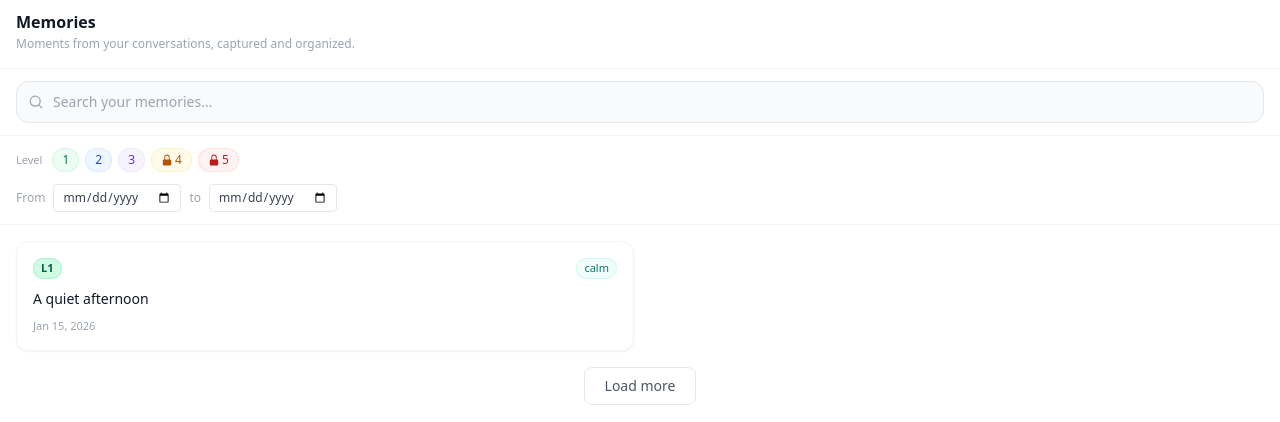
Scenario: MemoriesScreen — load more › appends the next page when "Load more" is clicked
Expected: the text "A quiet afternoon" is shown, [33,288,149,308]
Click the button "Load more" at (640, 386), box [584,367,696,405]
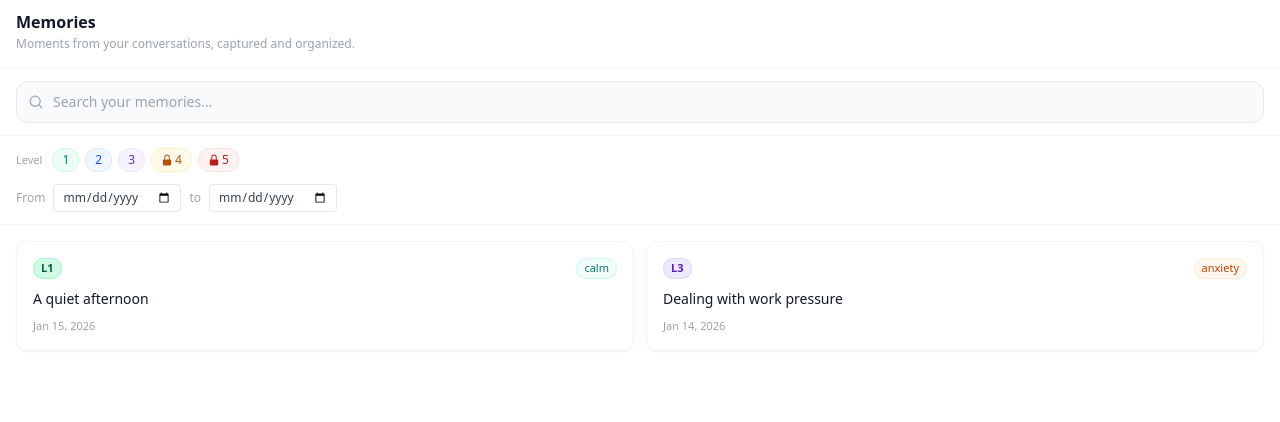
Expected: the text "A quiet afternoon" is shown, [33,288,149,308]
Now the text "Dealing with work pressure" is shown, box [663,288,843,308]
